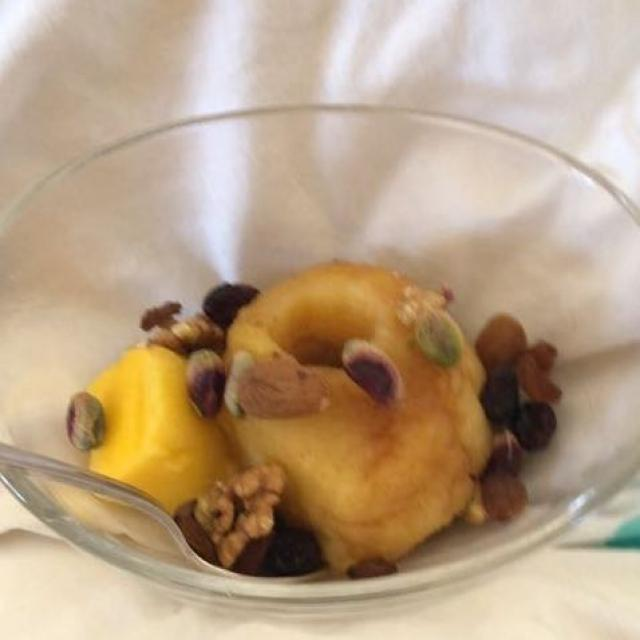apple: (219, 274, 475, 563)
mango: (77, 346, 242, 512)
mixed-nuts: (163, 317, 470, 579)
